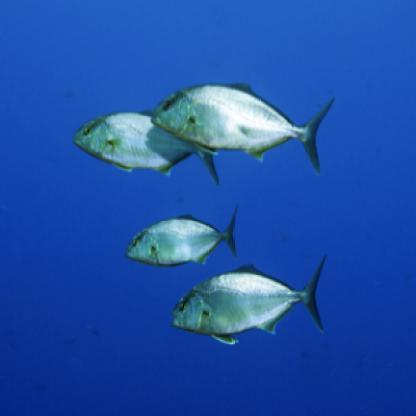Bio: (151, 75, 339, 178), (165, 246, 333, 352), (70, 100, 221, 190), (122, 198, 247, 264)
